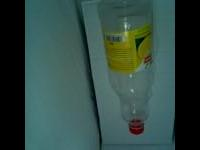bottle: (98, 10, 158, 132)
